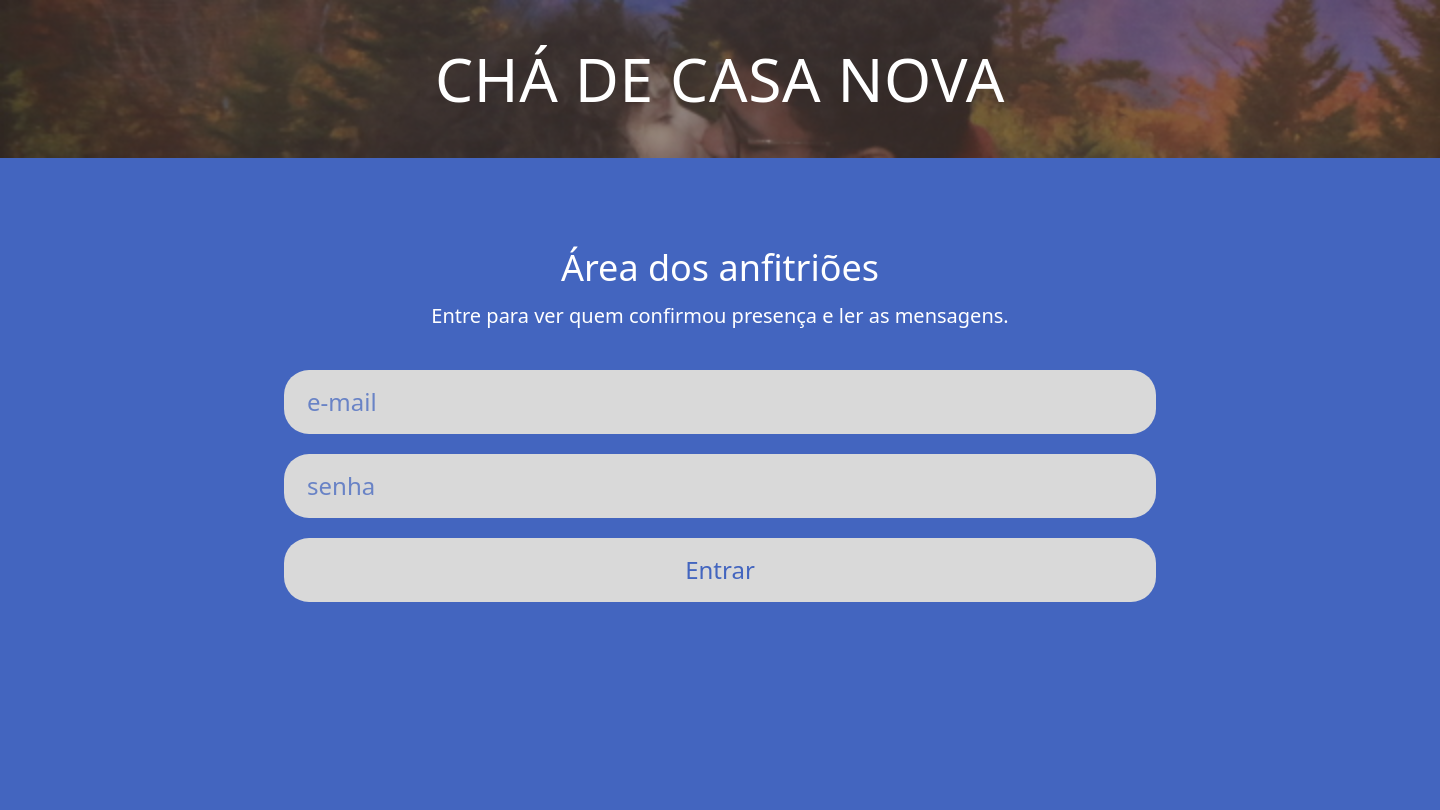
Test: área administrativa › entra e lista os convidados com suas escolhas
Type "sofia@casa.com" into the field labelled "e-mail". click: (720, 402)
box: [284,370,1156,434]
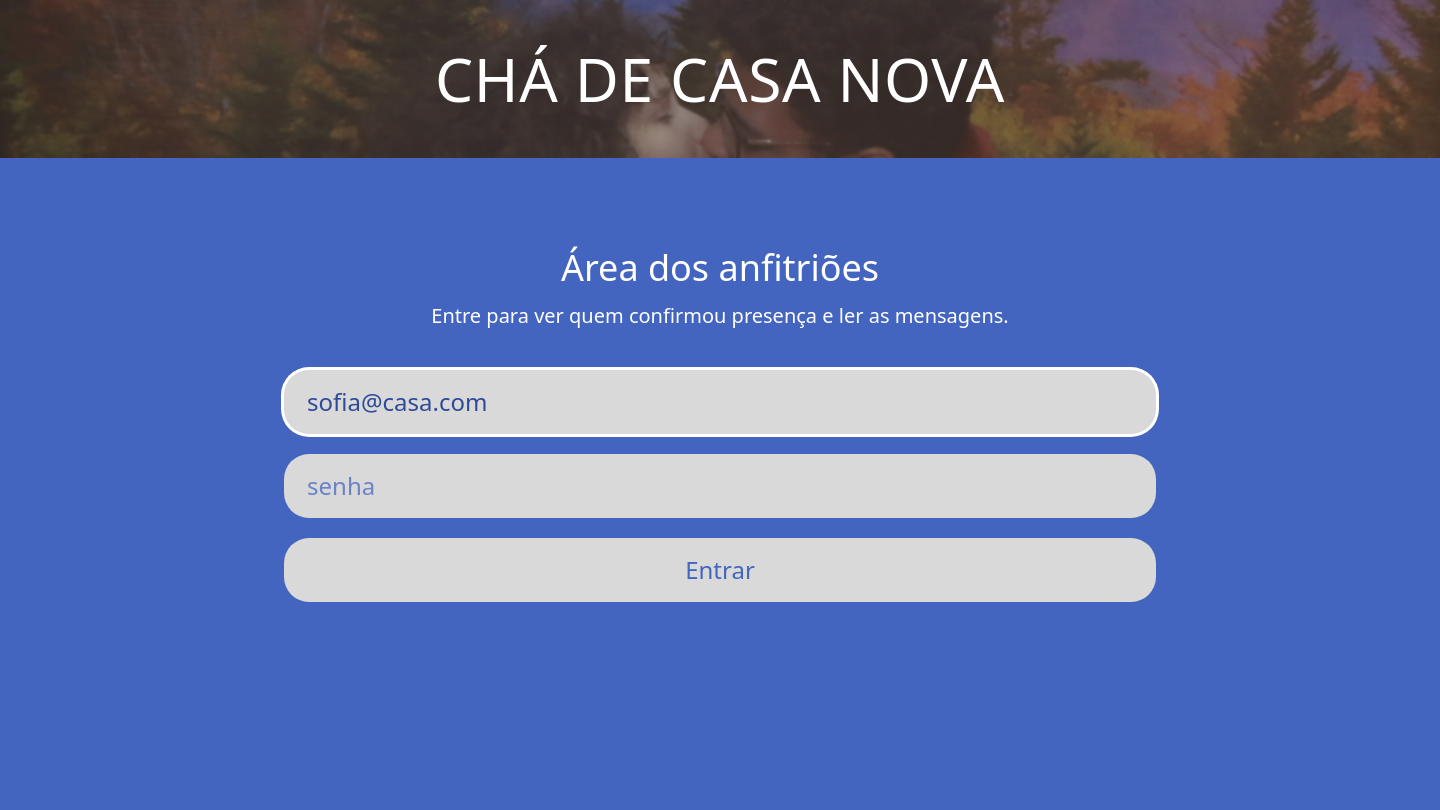
Type "senha-forte" into the password field labelled "senha". click: (720, 486)
box: [284,454,1156,518]
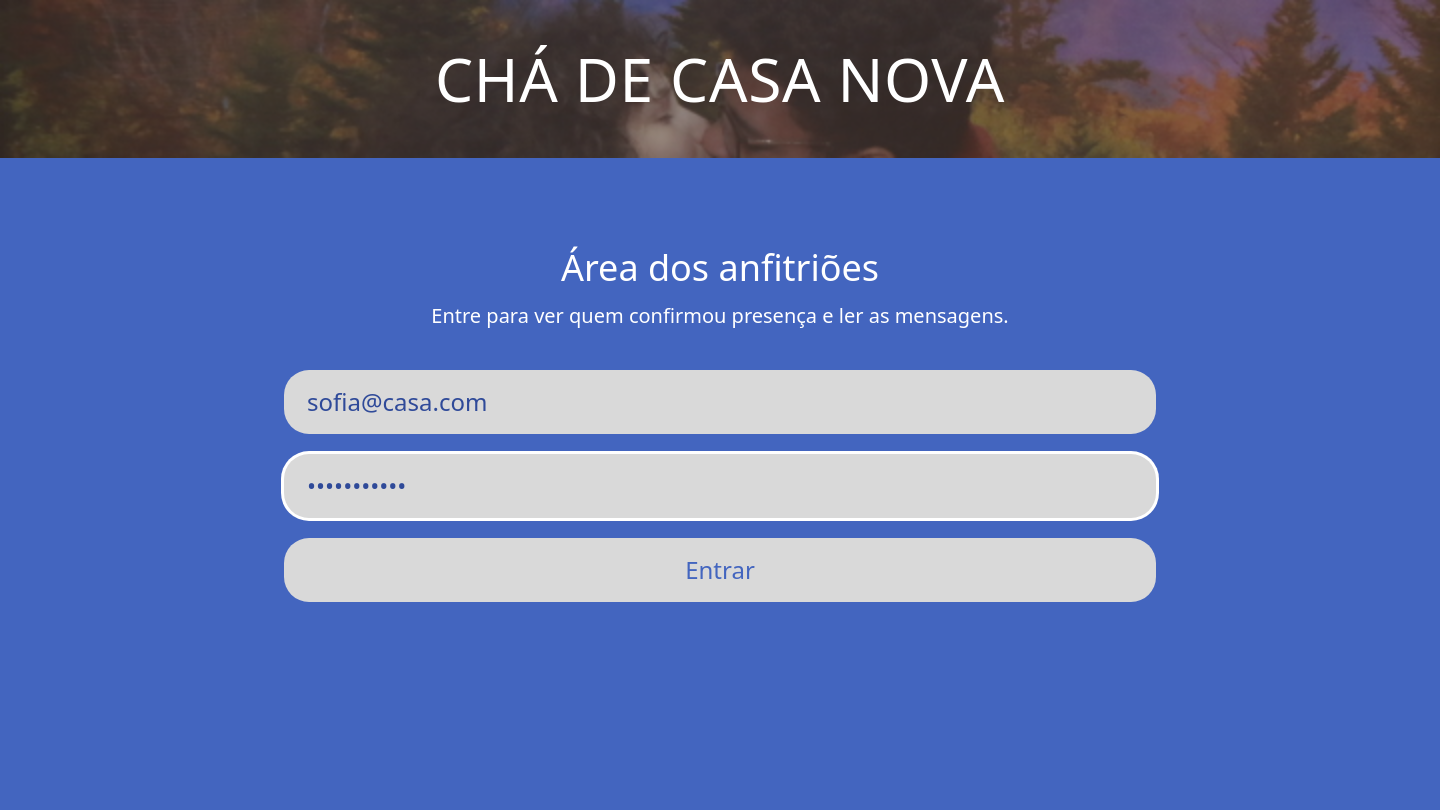
Click the button "Entrar". click: (720, 570)
box: [284,538,1156,602]
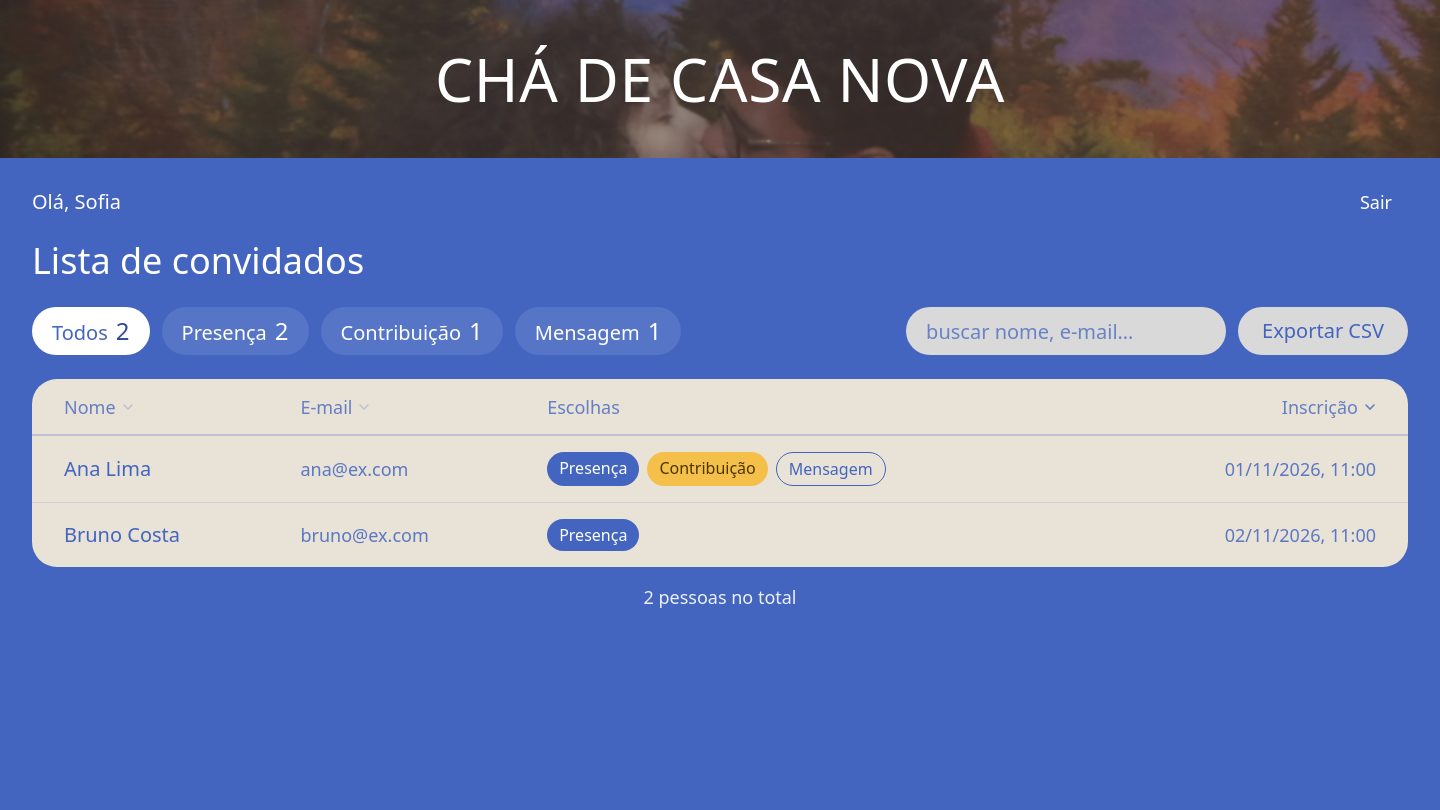
Expected: the text "Ana Lima" is shown, [32,436,284,503]
Expected: the number of list items "Presença" is 2, [547,452,639,486]; [547,519,639,551]
Expected: the list item "Contribuição" is shown, [647,452,768,486]
